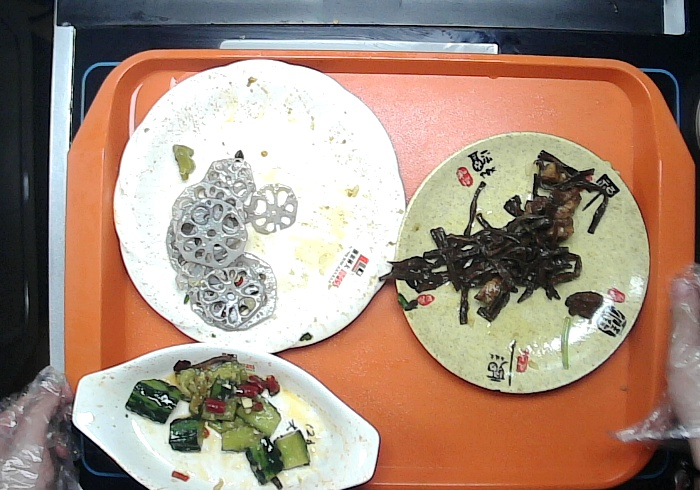NLDX-Bai_Zhe_Yuan_Pan: (110, 57, 406, 353)
NLDX-Fu_Zi_Yuan_Pan: (390, 127, 653, 399)
NLDX-Yu_Pan: (69, 342, 384, 490)
